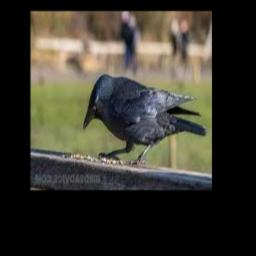Crow: (83, 73, 207, 164)
